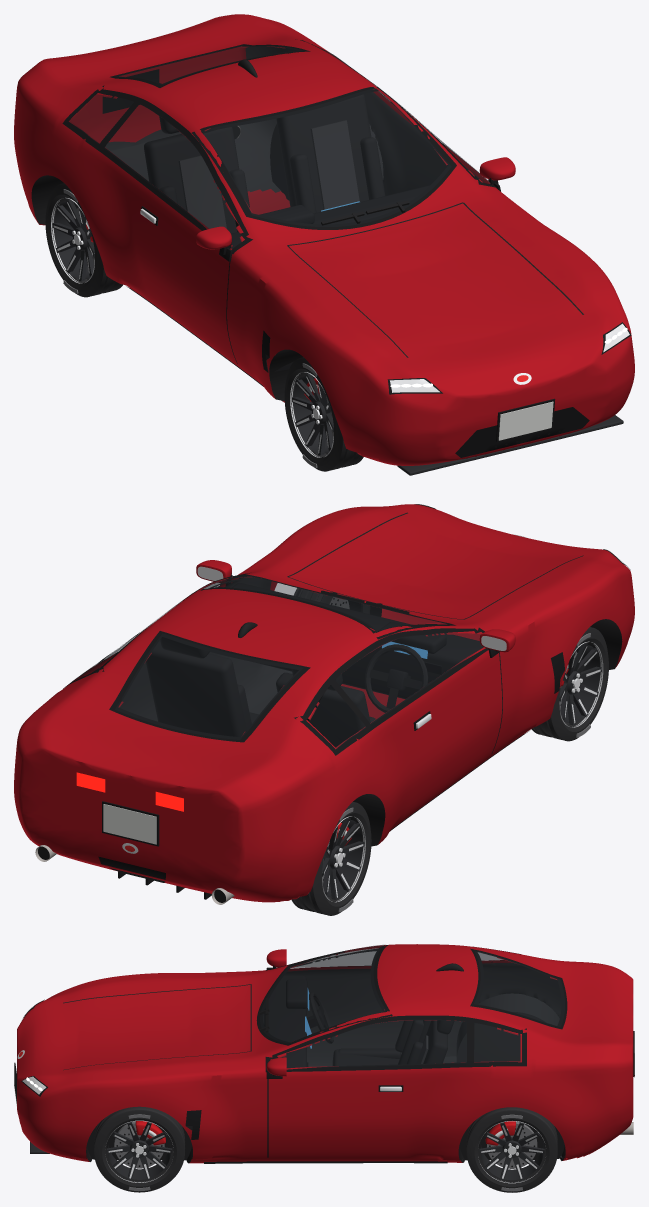
The picture shows the model from 3 angles, top to bottom: view 1: azimuth 30°, elevation 25°; view 2: azimuth 150°, elevation 25°; view 3: azimuth 270°, elevation 25°; orthographic projection. The views are drawn at different scales.
Parts seen in each view (by area): view 1: Body, Wheel_FR, Wheel_RR; view 2: Body, Wheel_RR, Wheel_FR, Wheel_FL; view 3: Body, Wheel_RL, Wheel_FL.
Boxes of the visible parts, box(x1,y1,x2,y2) form: Body: box(14, 14, 634, 475); Wheel_FR: box(284, 357, 363, 471); Wheel_RR: box(45, 183, 122, 297); Body: box(14, 504, 634, 904); Wheel_RR: box(291, 802, 371, 915); Wheel_FR: box(531, 627, 608, 741); Wheel_FL: box(294, 588, 370, 614); Body: box(14, 944, 634, 1163); Wheel_RL: box(466, 1107, 557, 1192); Wheel_FL: box(94, 1106, 185, 1192).
Size of the model in its own units: 1.96 by 1.36 by 4.29.
